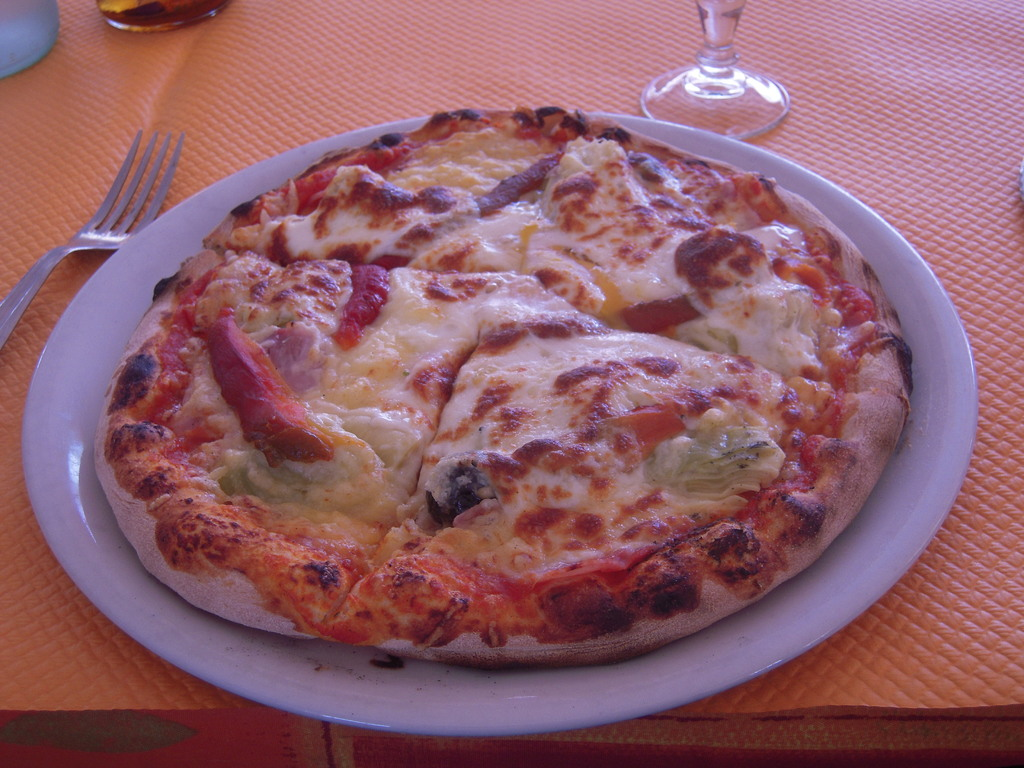Pizza: (92, 104, 912, 665)
